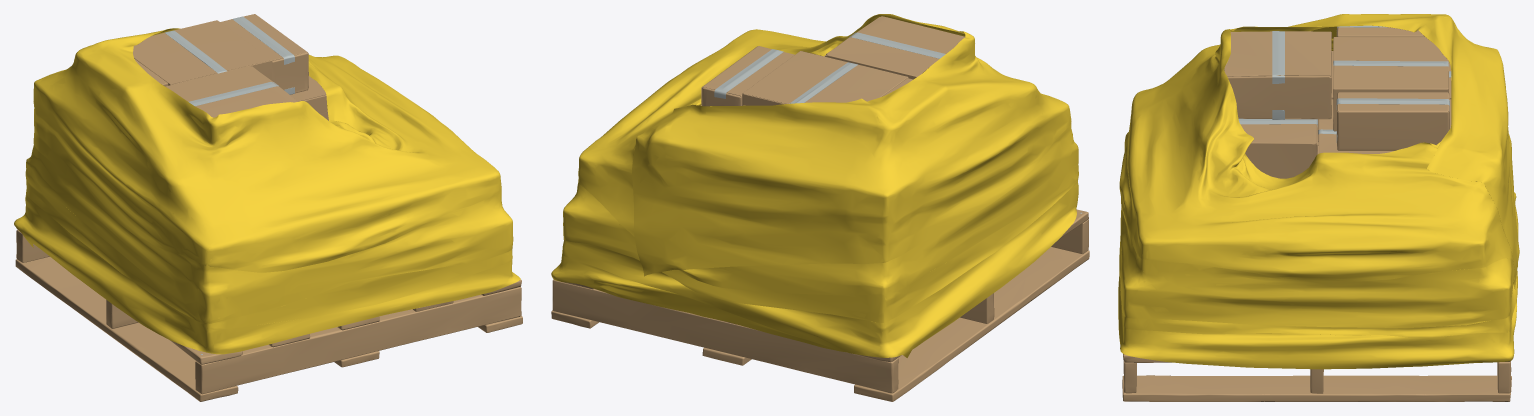
The model's file is pallet_assembly_yellow_a03.glb.
The picture shows the model from 3 angles, left to right: view 1: azimuth 30°, elevation 25°; view 2: azimuth 150°, elevation 25°; view 3: azimuth 270°, elevation 25°; orthographic projection. The views are drawn at different scales.
Bounding box in the file's own units: 0.9116 × 0.6356 × 0.9282.
